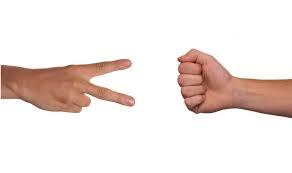rock: (171, 45, 240, 121)
scissors: (33, 53, 138, 116)
